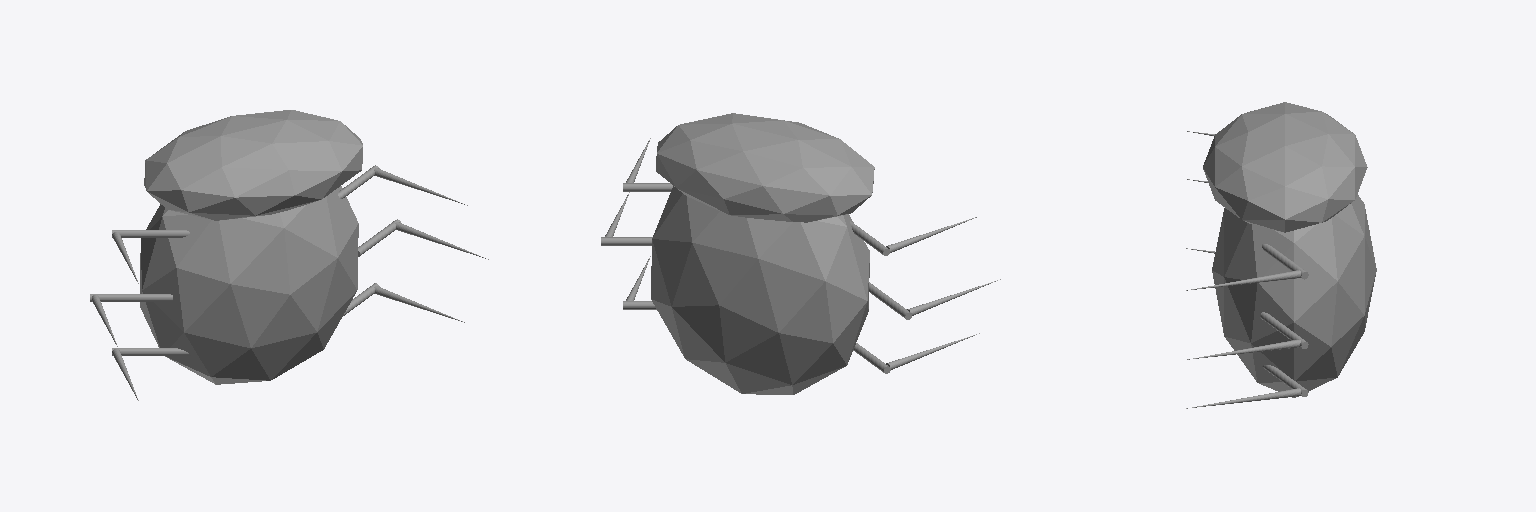
Rendered from InsectPrototype.obj.
3 renders of one model, left to right at view 1: azimuth 30°, elevation 25°; view 2: azimuth 150°, elevation 25°; view 3: azimuth 270°, elevation 25°, orthographic.
Visible parts, largest first — view 1: InsectPrototype; view 2: InsectPrototype; view 3: InsectPrototype.
Part boxes in pixels (x1,y1,x2,y2): InsectPrototype: (90,110,488,400); InsectPrototype: (601,113,1000,394); InsectPrototype: (1186,102,1376,408).
Bounding box in the file's own units: 0.5191 × 0.3374 × 0.2349.